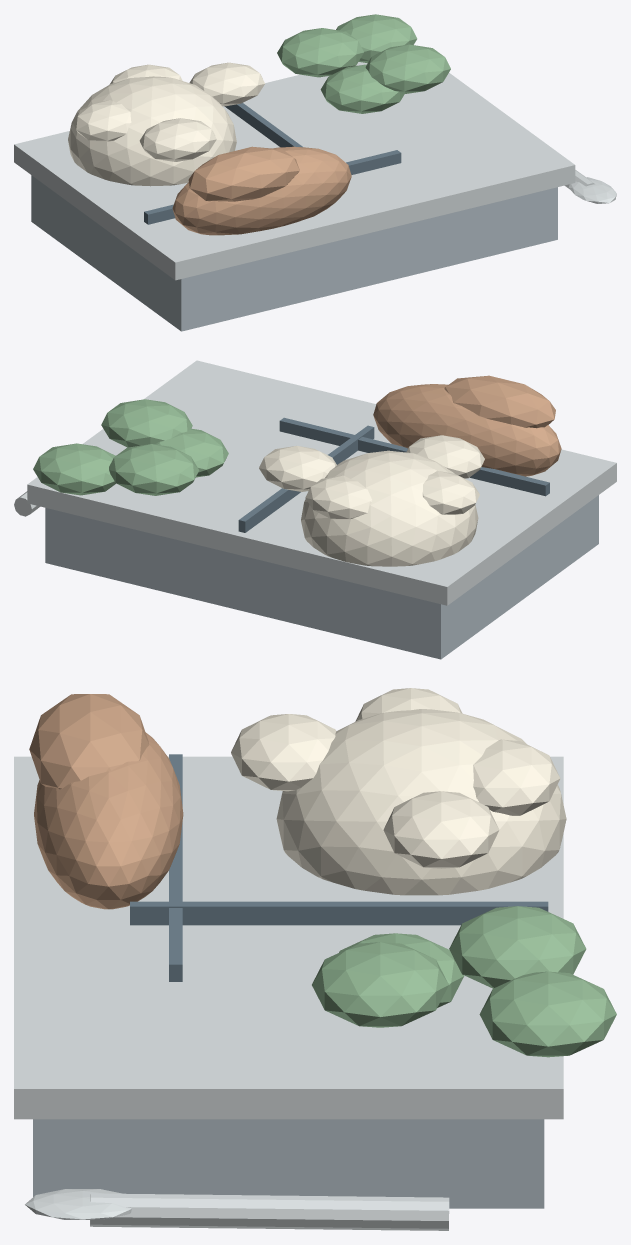
File: canteen_meal_tray.glb
3 views of the same model, one above another, from view 1: azimuth 30°, elevation 25°; view 2: azimuth 150°, elevation 25°; view 3: azimuth 270°, elevation 25° (orthographic). The views are drawn at different scales.
Visible parts, largest first — view 1: canteen_meal_tray:steel_light, canteen_meal_tray:steel, canteen_meal_tray:food_rice, canteen_meal_tray:food_protein, canteen_meal_tray:food_greens, canteen_meal_tray:steel_dark; view 2: canteen_meal_tray:steel_light, canteen_meal_tray:steel, canteen_meal_tray:food_rice, canteen_meal_tray:food_protein, canteen_meal_tray:food_greens, canteen_meal_tray:steel_dark; view 3: canteen_meal_tray:steel_light, canteen_meal_tray:food_rice, canteen_meal_tray:steel, canteen_meal_tray:food_greens, canteen_meal_tray:food_protein, canteen_meal_tray:steel_dark.
Boxes of the visible parts, x1,y1,x2,y2 form: canteen_meal_tray:steel_light: (14, 62, 616, 280); canteen_meal_tray:steel: (31, 175, 557, 331); canteen_meal_tray:food_rice: (68, 62, 264, 186); canteen_meal_tray:food_protein: (172, 146, 351, 235); canteen_meal_tray:food_greens: (277, 14, 450, 113); canteen_meal_tray:steel_dark: (144, 103, 401, 224); canteen_meal_tray:steel_light: (14, 360, 616, 605); canteen_meal_tray:steel: (45, 495, 598, 659); canteen_meal_tray:food_rice: (259, 435, 484, 566); canteen_meal_tray:food_protein: (373, 375, 561, 476); canteen_meal_tray:food_greens: (33, 399, 228, 495); canteen_meal_tray:steel_dark: (238, 417, 549, 532); canteen_meal_tray:steel_light: (14, 756, 563, 1230); canteen_meal_tray:food_rice: (231, 688, 566, 895); canteen_meal_tray:steel: (33, 1119, 544, 1208); canteen_meal_tray:food_greens: (312, 906, 616, 1057); canteen_meal_tray:food_protein: (29, 694, 183, 909); canteen_meal_tray:steel_dark: (130, 754, 548, 981).
Bounding box in the file's own units: 0.5865 × 0.1805 × 0.395.
